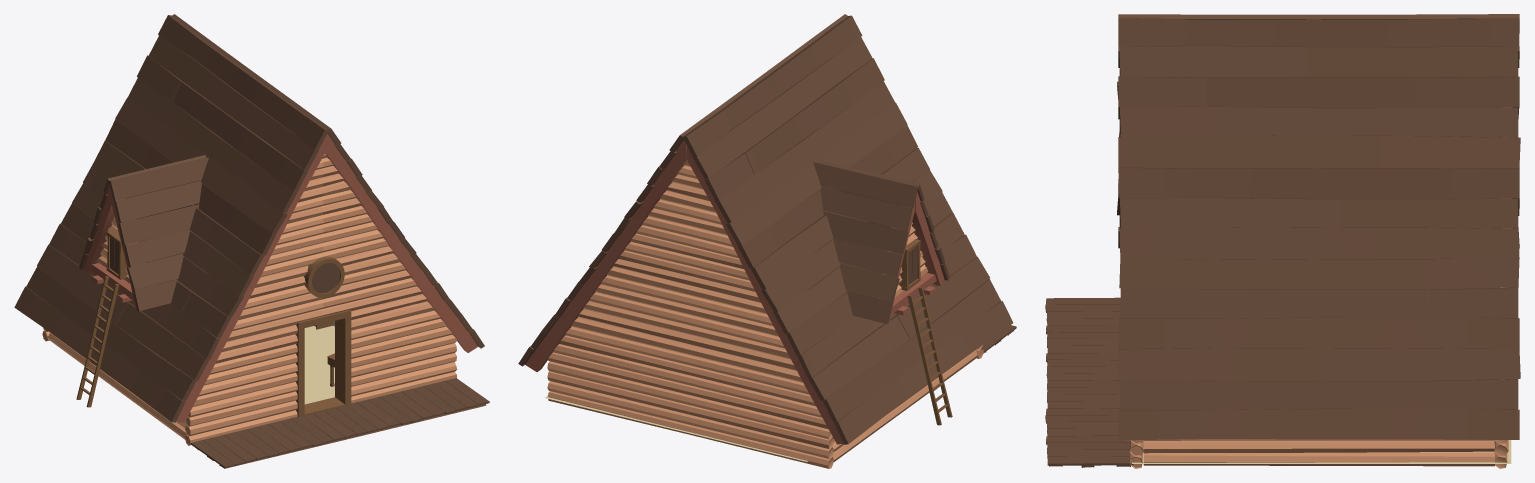
File: house.fbx
3 renders of one model, left to right at view 1: azimuth 30°, elevation 25°; view 2: azimuth 150°, elevation 25°; view 3: azimuth 270°, elevation 25°, orthographic. The views are drawn at different scales.
Visible parts, largest first — view 1: exterior_dark, exterior_light, red_obj, dark_wood_obj, floor; view 2: exterior_dark, exterior_light, red_obj, dark_wood_obj, floor; view 3: exterior_dark, exterior_light, floor.
Boxes of the visible parts, x1=… form: exterior_dark: x1=14, y1=14, x2=489, y2=468; exterior_light: x1=42, y1=154, x2=457, y2=445; red_obj: x1=84, y1=126, x2=477, y2=422; dark_wood_obj: x1=76, y1=230, x2=351, y2=417; floor: x1=304, y1=325, x2=457, y2=404; exterior_dark: x1=518, y1=14, x2=1016, y2=444; exterior_light: x1=547, y1=160, x2=983, y2=468; red_obj: x1=525, y1=18, x2=944, y2=444; dark_wood_obj: x1=899, y1=239, x2=952, y2=425; floor: x1=545, y1=396, x2=807, y2=461; exterior_dark: x1=1045, y1=14, x2=1520, y2=467; exterior_light: x1=1129, y1=198, x2=1508, y2=468; floor: x1=1132, y1=440, x2=1511, y2=463.
Size of the model in its own units: 8.35 by 7.08 by 8.23.
